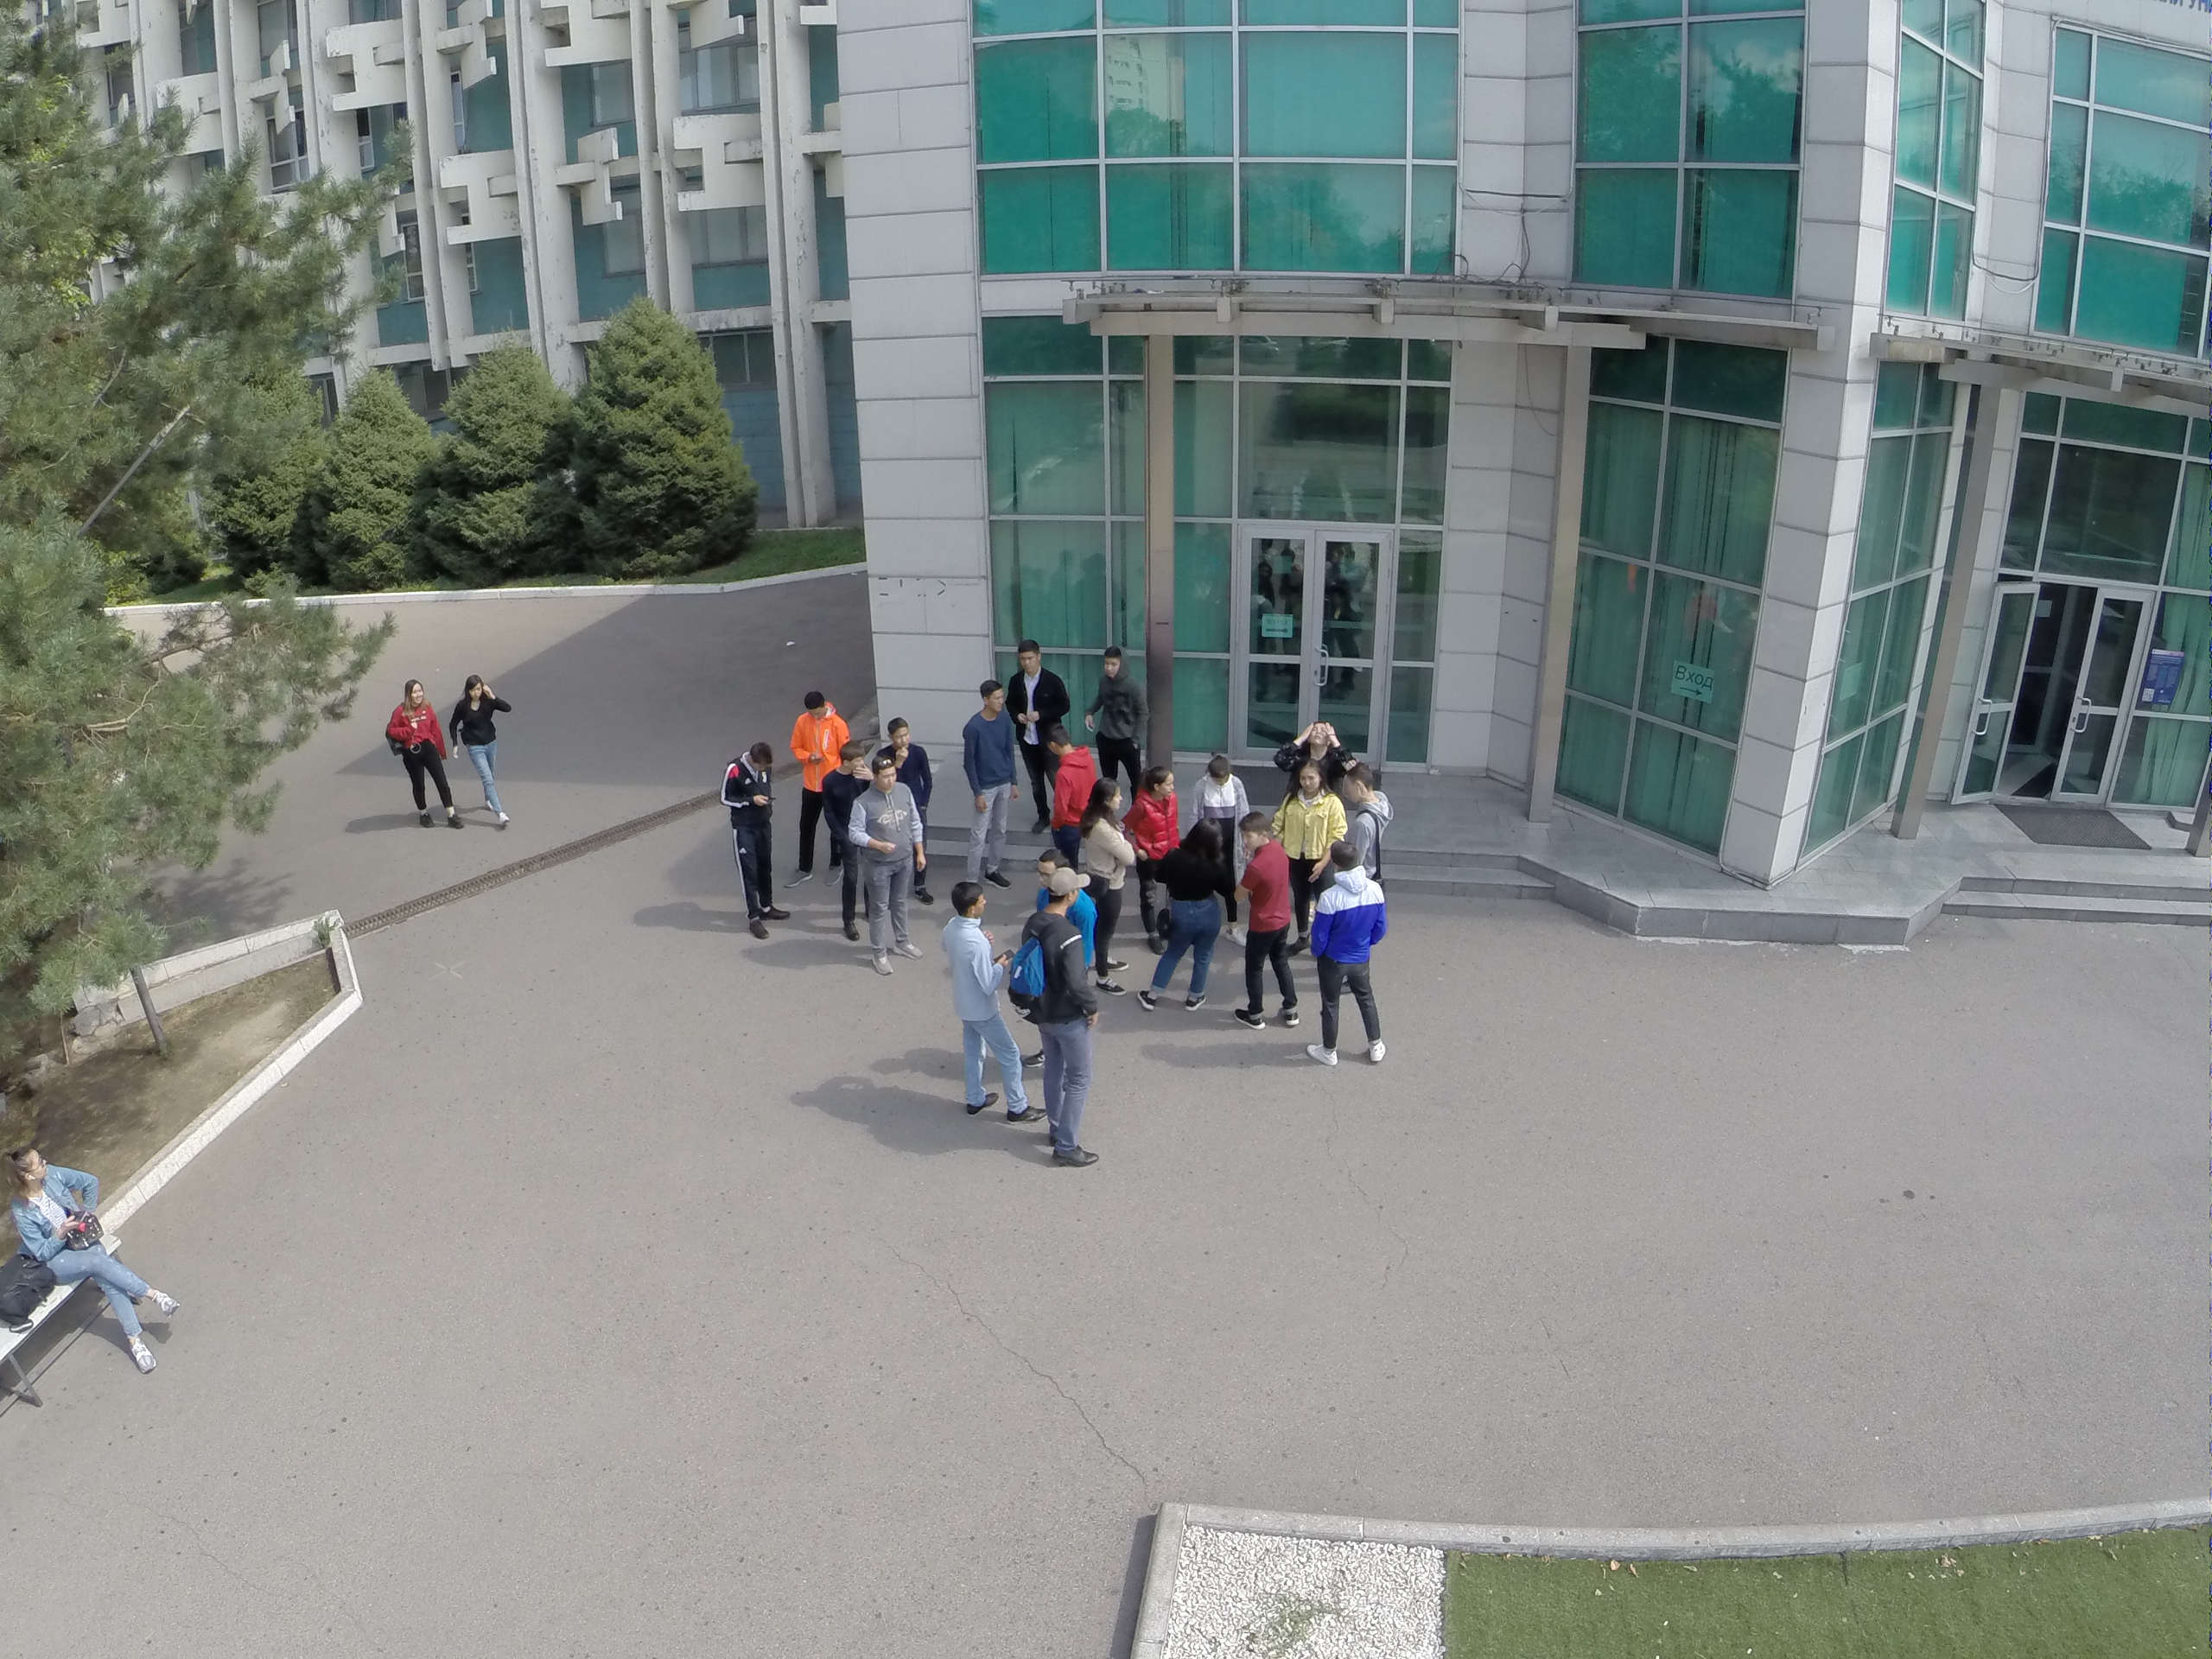person: (1, 1148, 183, 1376), (943, 880, 1041, 1130), (1306, 837, 1389, 1073), (1227, 808, 1304, 1032), (856, 751, 930, 972), (718, 738, 794, 945), (385, 675, 466, 836), (791, 686, 848, 890), (1156, 816, 1216, 1007), (960, 671, 1010, 894), (451, 671, 518, 836), (1088, 640, 1149, 777), (1010, 637, 1052, 833), (833, 736, 870, 944), (1043, 720, 1096, 855), (1279, 760, 1345, 848), (1275, 718, 1360, 767), (1130, 765, 1176, 853), (1339, 764, 1392, 833), (1193, 756, 1245, 816), (883, 718, 933, 772)
